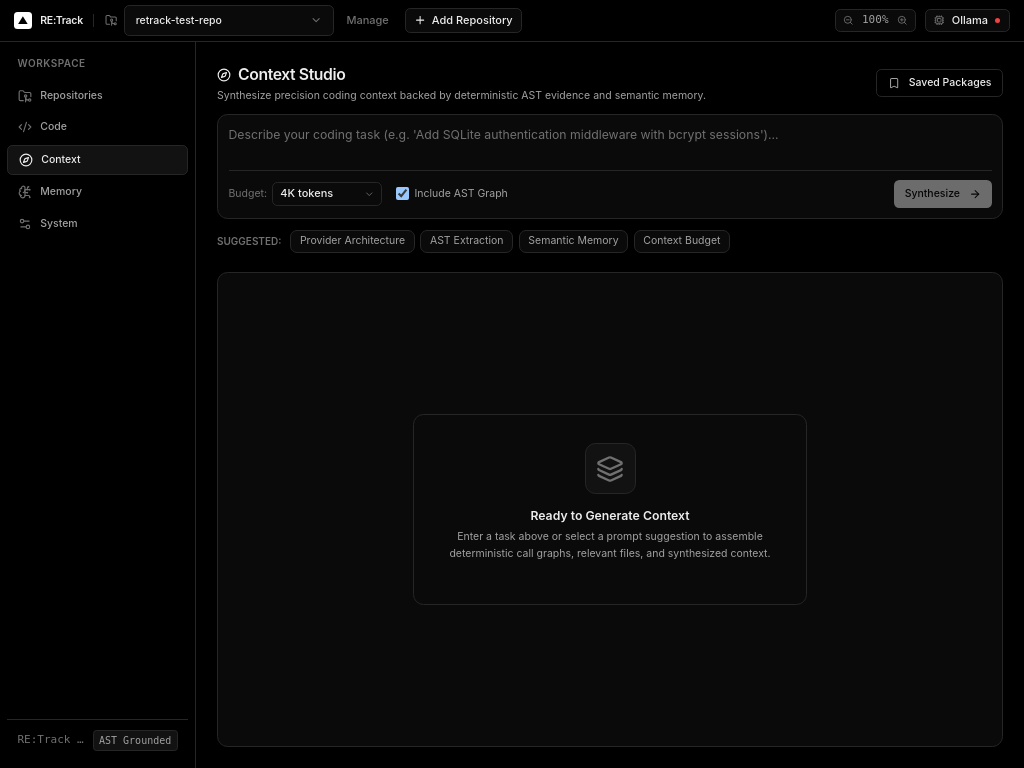
Scenario: Context presentation — model processing & markdown modes › switches between rendered and raw markdown without altering content or regenerating
This screenshot has width=1024, height=768.
Expected: the text "Context Studio" is shown, [238,63,345,88]
Replace the text in the text box with placeholder "Describe your coding task" with "Add authentication middleware". click: (610, 145)
box: [228,125,992,165]
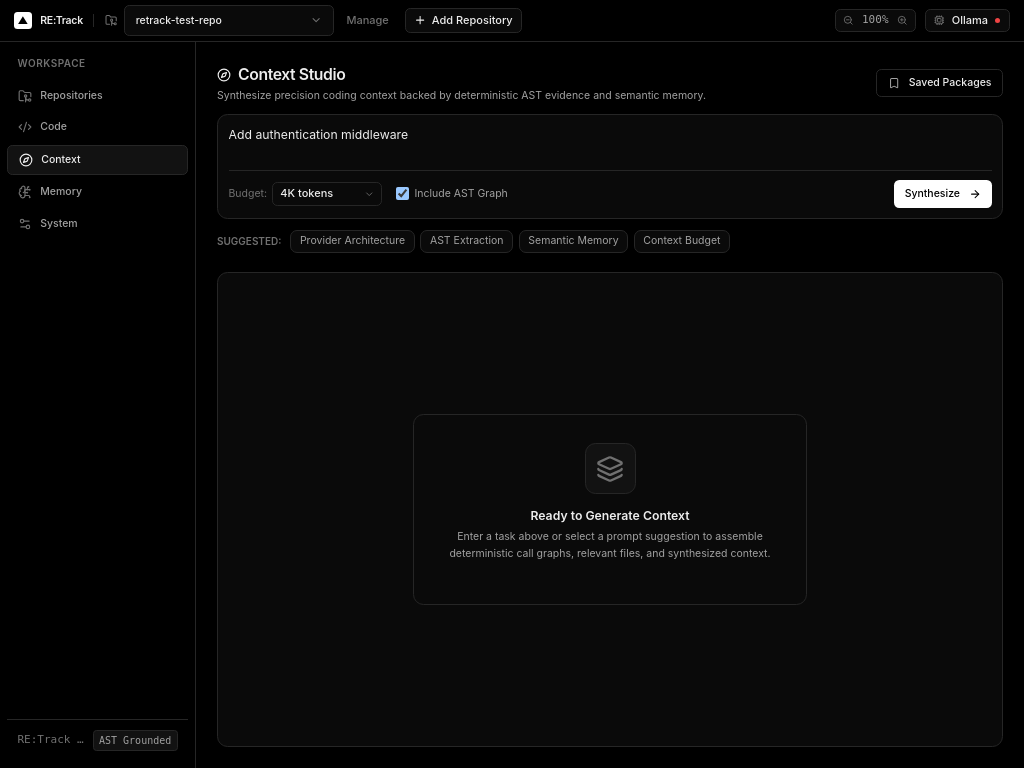
Click the button "Synthesize". click: (943, 194)
box: [894,180,992,208]
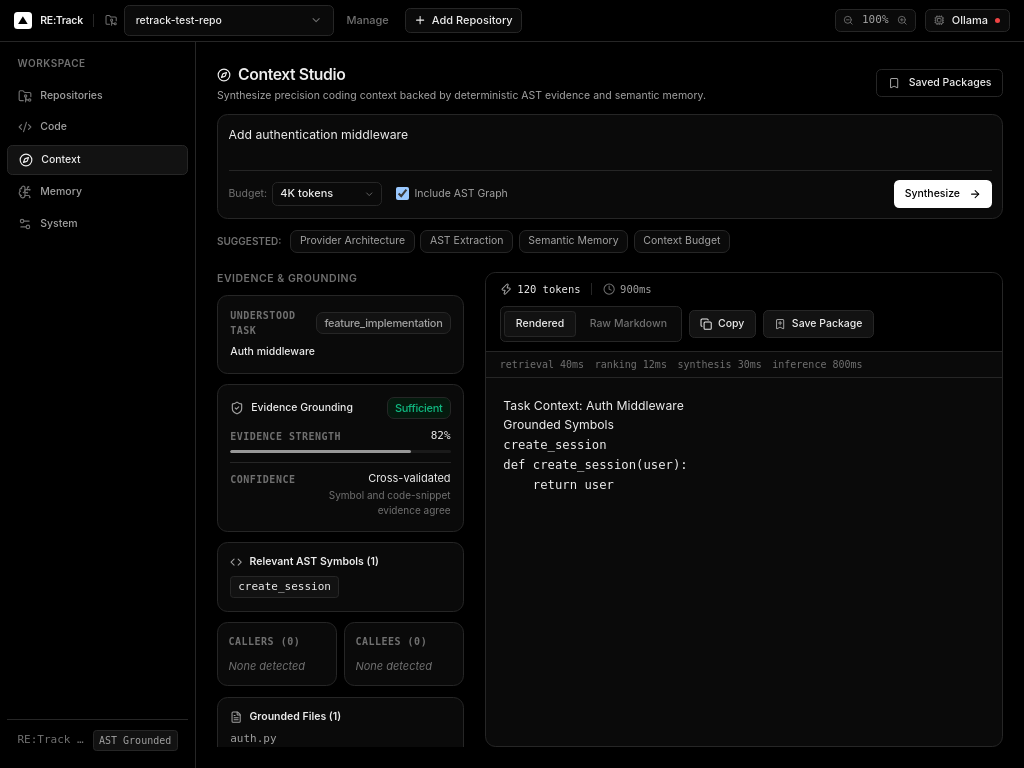
Expected: the element with test id "context-rendered-markdown" is shown, [503,398,688,492]
Expected: the heading "Task Context: Auth Middleware" is shown, [503,398,684,413]
Expected: the text "create_session" below "Grounded Symbols" is shown, [503,438,607,452]
Click the tab "Raw Markdown". click: (628, 324)
box: [579,312,678,336]
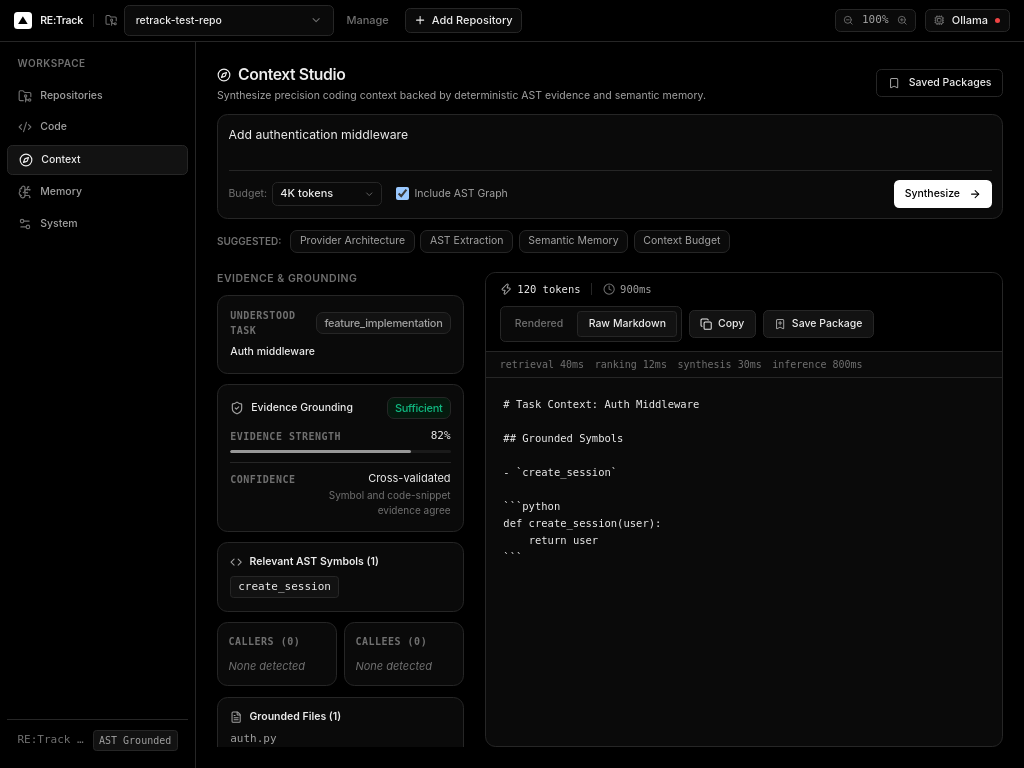
Click the tab "Rendered". click: (539, 324)
box: [504,312,574,336]
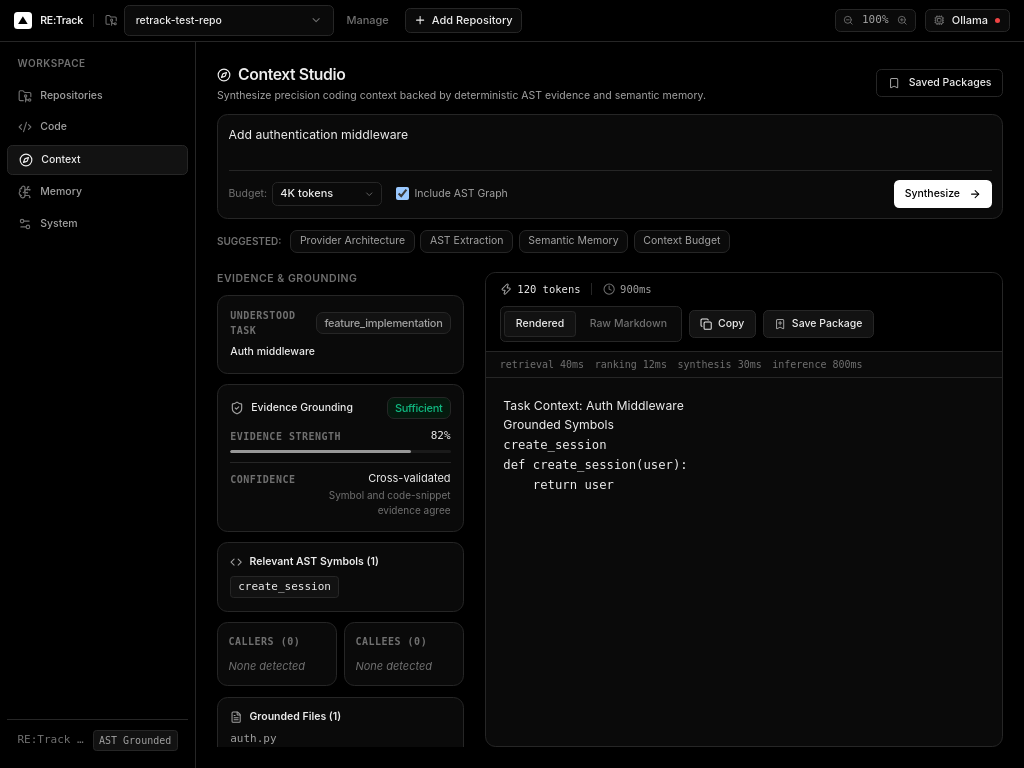
Expected: the heading "Task Context: Auth Middleware" is shown, [503,398,684,413]
Expected: the element with test id "context-rendered-markdown" is shown, [503,398,688,492]
